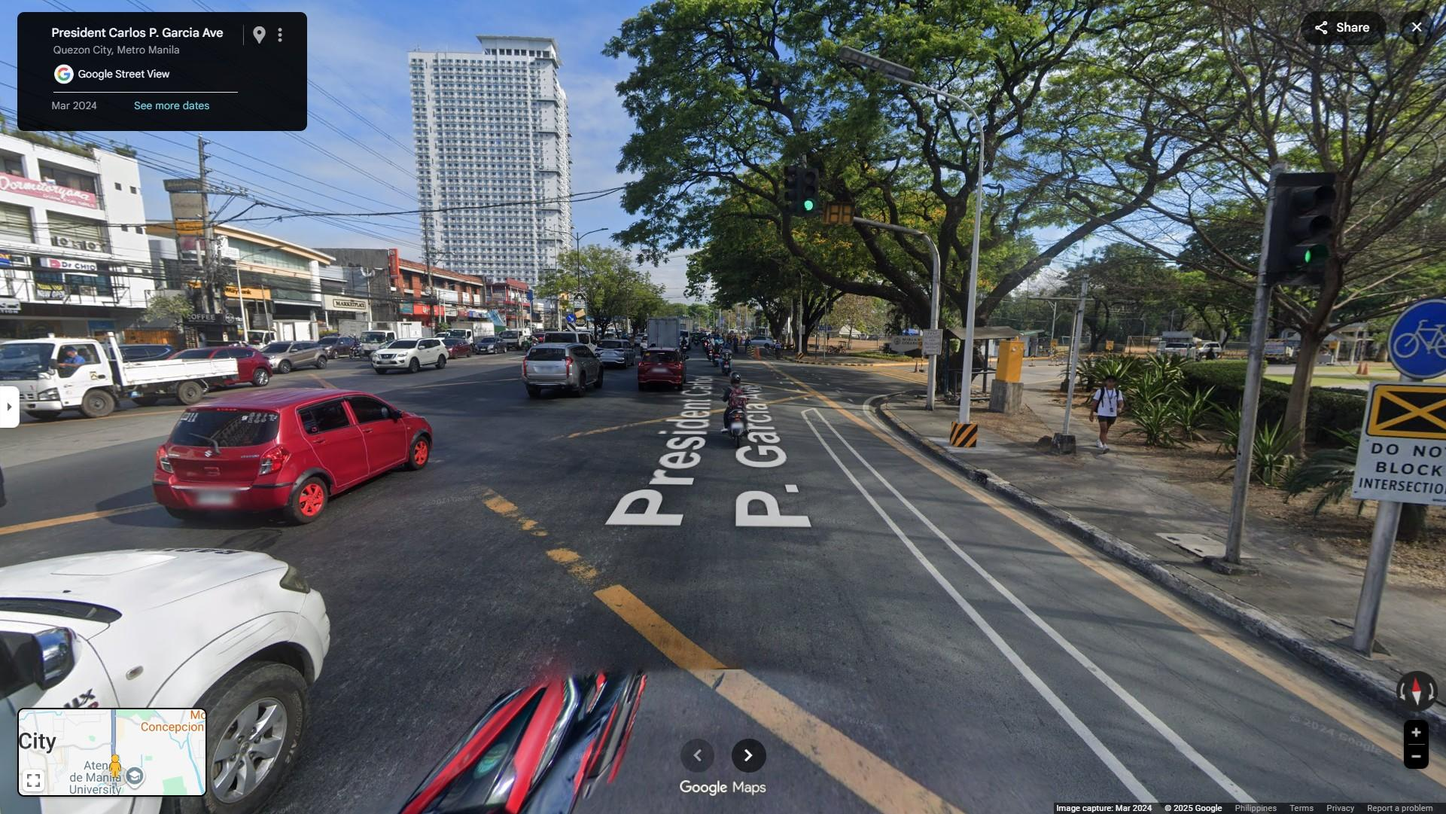pedestrian: (1089, 374, 1124, 454), (772, 339, 783, 361), (743, 336, 752, 354), (732, 334, 740, 354), (720, 332, 725, 345)
